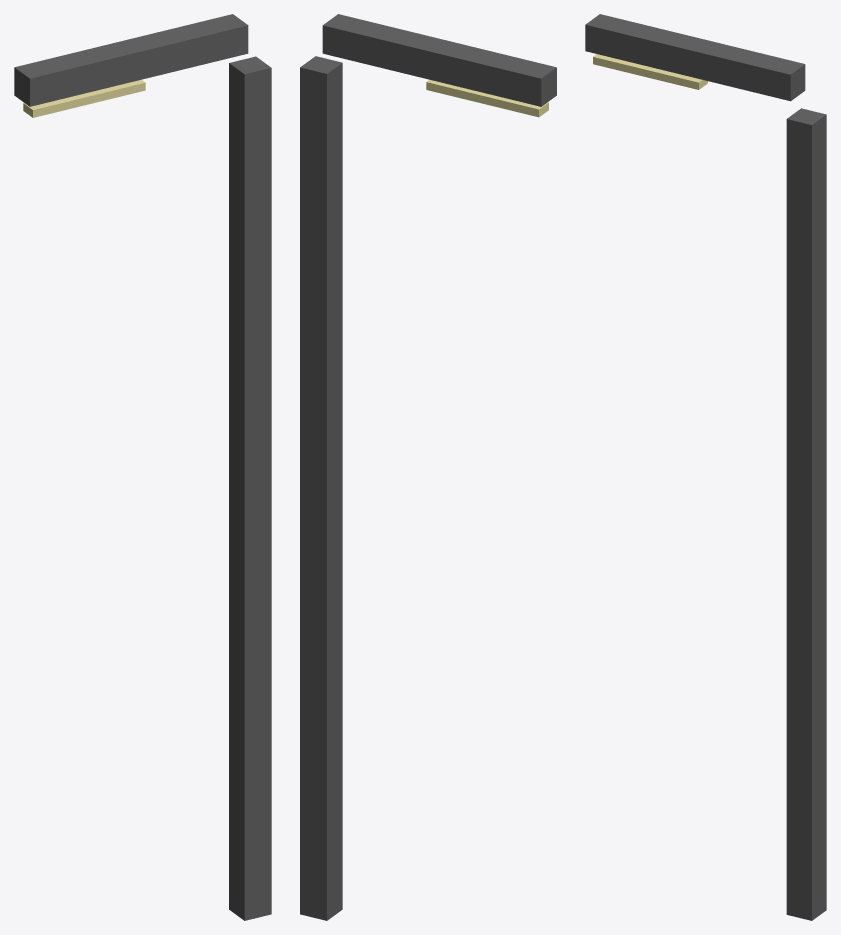
Rendered from street_light.obj.
3 renders of one model, left to right at view 1: azimuth 30°, elevation 25°; view 2: azimuth 150°, elevation 25°; view 3: azimuth 330°, elevation 25°, orthographic. The views are drawn at different scales.
Parts seen in each view (by area): view 1: Box01, Box02, Box03; view 2: Box01, Box02, Box03; view 3: Box01, Box02, Box03.
Boxes of the visible parts, x1,y1,x2,y2 form: Box01: [229, 56, 271, 920]; Box02: [14, 14, 248, 106]; Box03: [23, 79, 145, 117]; Box01: [300, 56, 342, 920]; Box02: [322, 14, 556, 106]; Box03: [426, 79, 548, 117]; Box01: [786, 108, 826, 920]; Box02: [585, 14, 805, 101]; Box03: [593, 54, 707, 89].
Size of the model in its own units: 2.83 by 10.02 by 0.3215.
